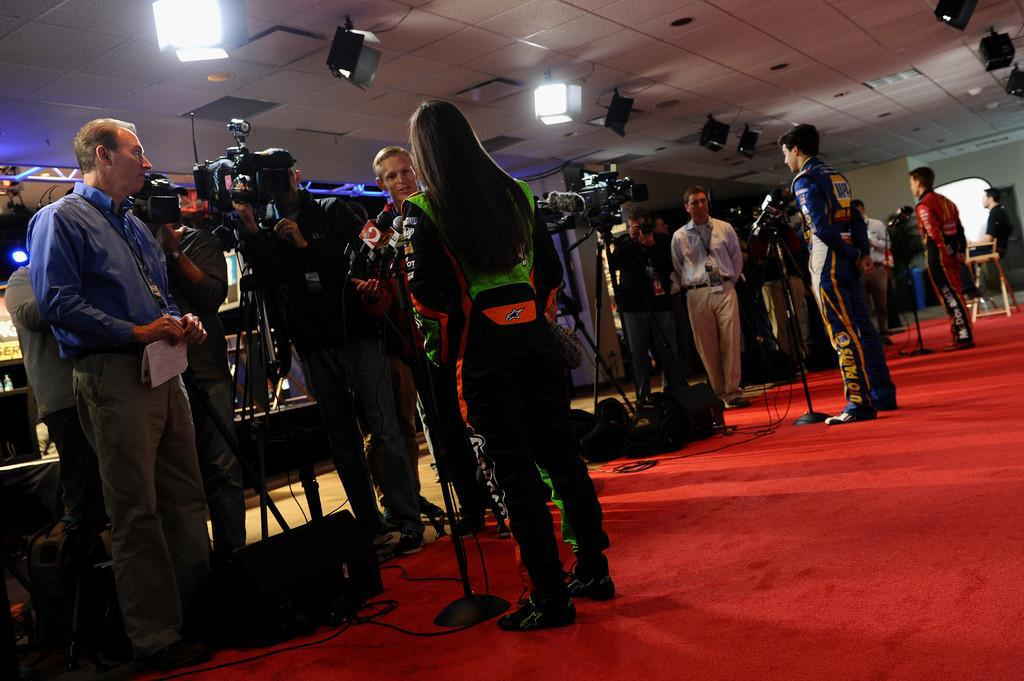face: (109, 131, 152, 192), (383, 161, 414, 202), (269, 165, 296, 199), (152, 194, 178, 224), (690, 196, 708, 219), (783, 144, 796, 172), (629, 220, 646, 238), (909, 175, 918, 196), (655, 220, 669, 231), (855, 208, 864, 219), (983, 193, 989, 208)
